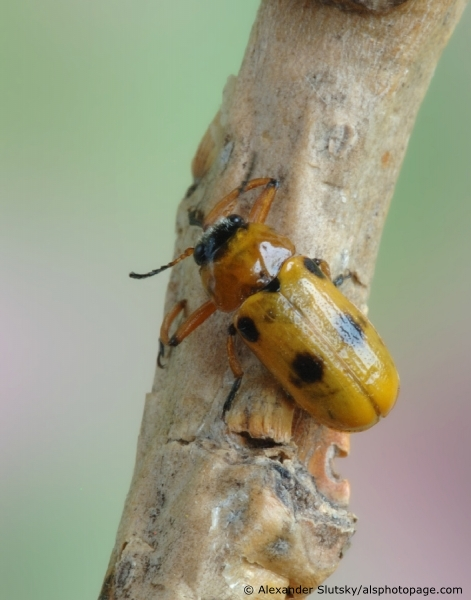Tituboea_macropus: (137, 169, 405, 457)
